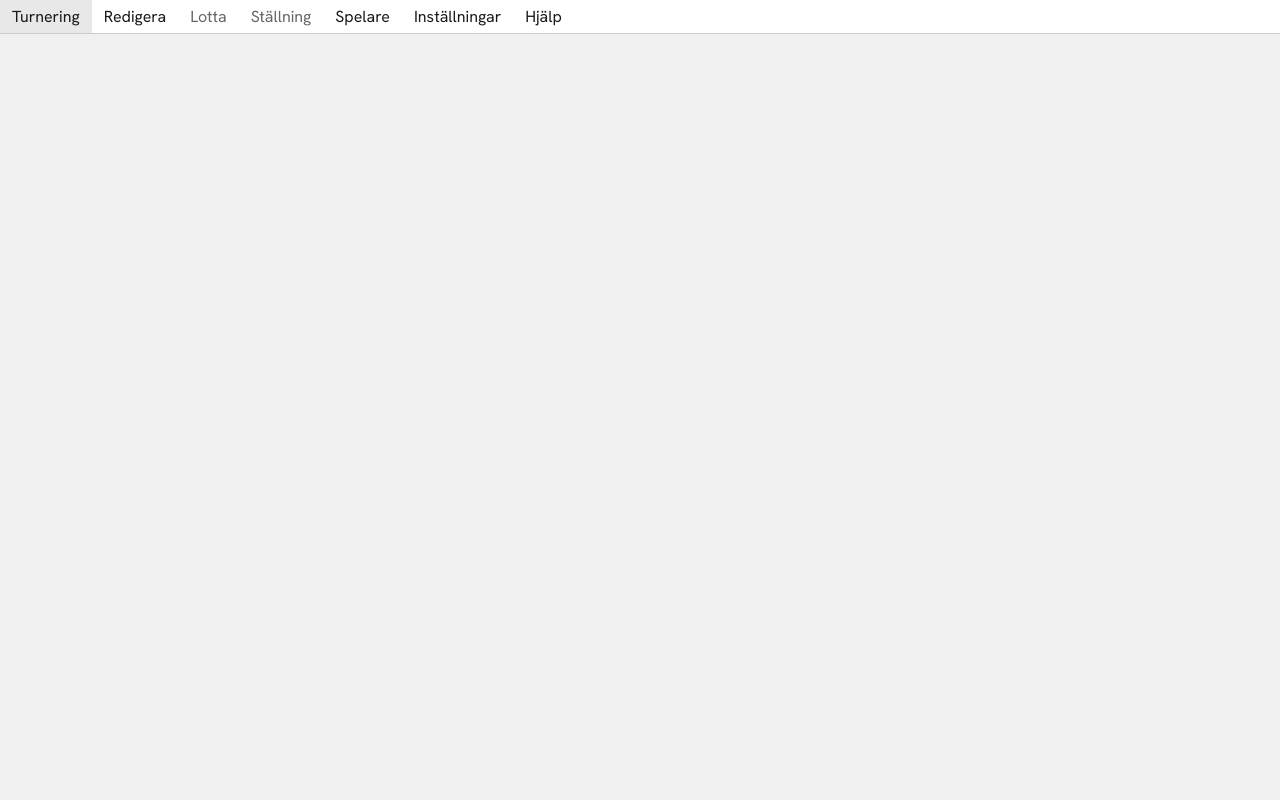
it: MenuBar about dialog › opens about dialog when clicking Om in Hjälp menu
The width and height of the screenshot is (1280, 800).
Click the button "Hjälp". click: [544, 16]
box: [513,0,574,33]
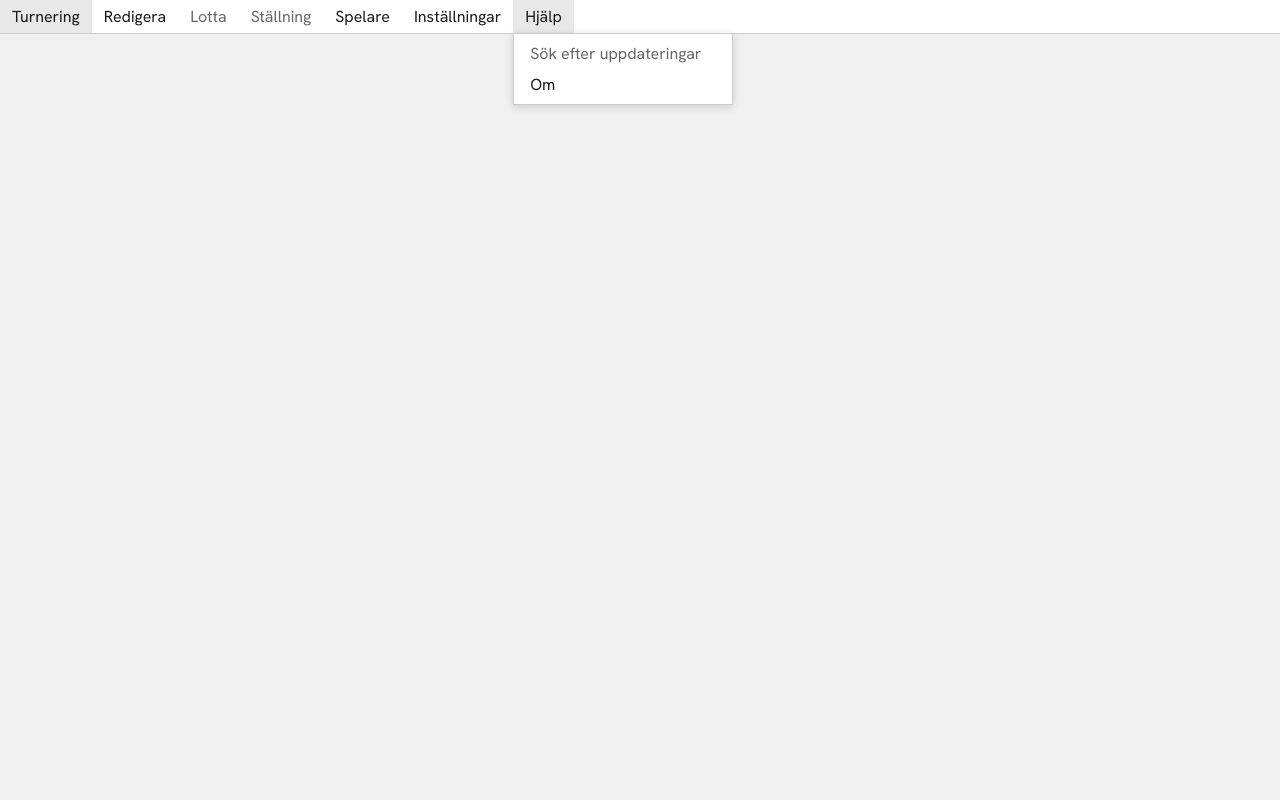
Click the button "Om". click: [623, 84]
box: [514,69,732,100]
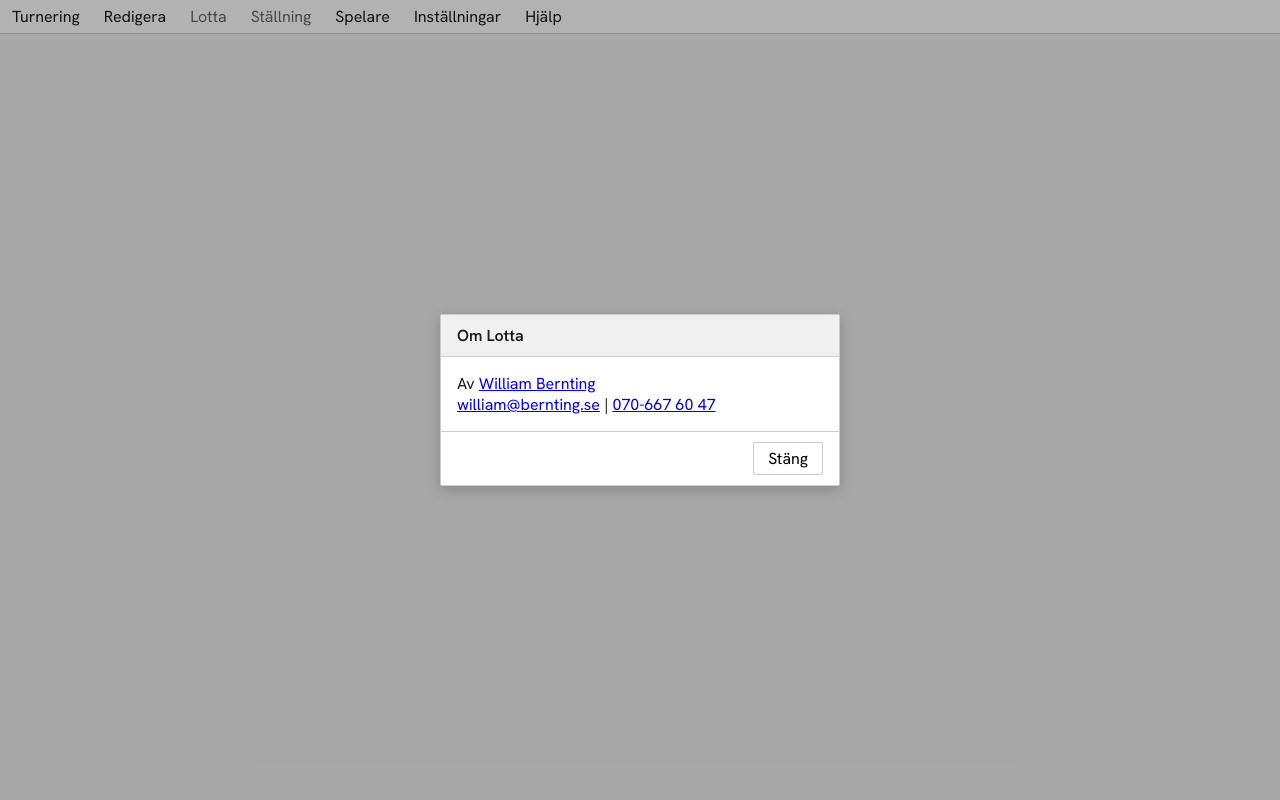
Result: the text "Om Lotta" is shown at [441,315,839,357]
Result: the link "William Bernting" is shown at [479,373,596,394]
